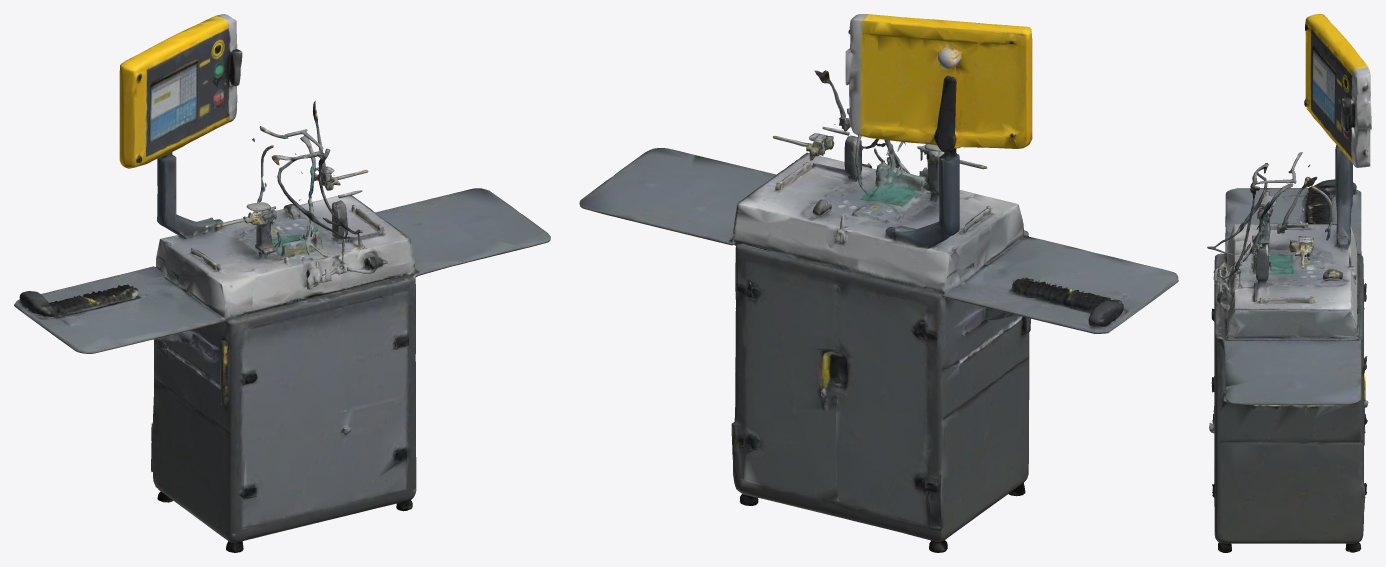
The model's file is tikuv-lite.glb.
3 renders of one model, left to right at view 1: azimuth 30°, elevation 25°; view 2: azimuth 150°, elevation 25°; view 3: azimuth 270°, elevation 25°, orthographic. The views are drawn at different scales.
Visible parts, largest first — view 1: Object_4; view 2: Object_4; view 3: Object_4.
Boxes of the visible parts, x1,y1,x2,y2 form: Object_4: (14,14,550,552); Object_4: (579,14,1178,552); Object_4: (1207,14,1371,552).
Bounding box in the file's own units: 2 × 1.87 × 0.6447.
1 material, 1 textured.
